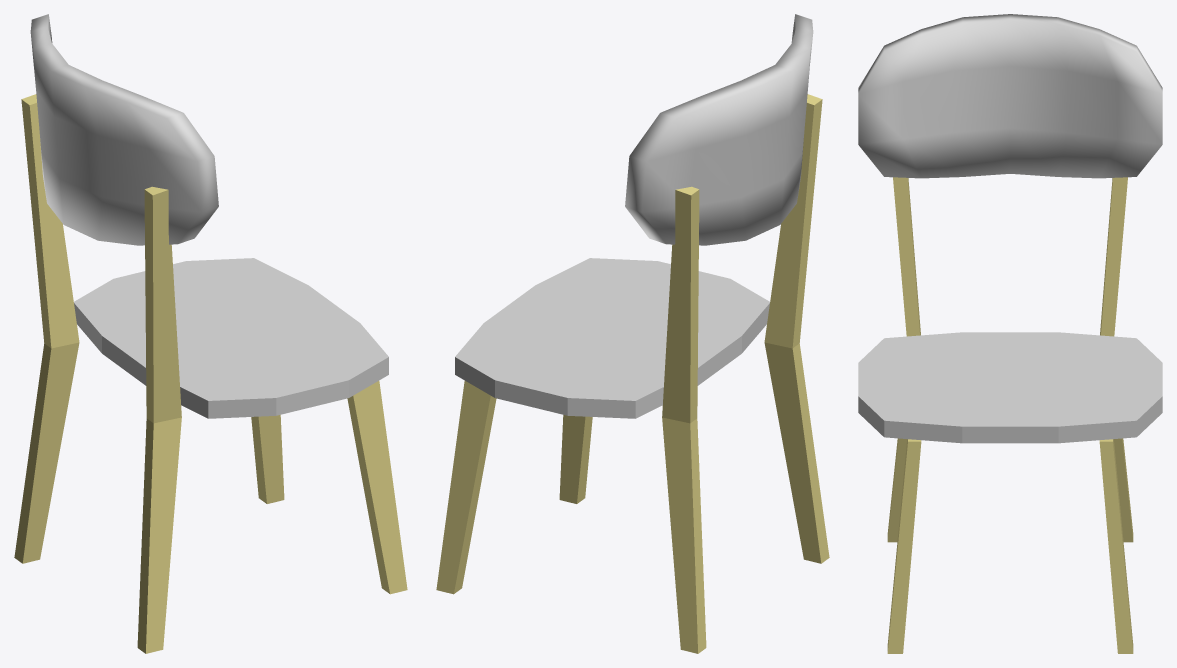
Rendered from BedRoom_Chair.fbx.
3 renders of one model, left to right at view 1: azimuth 30°, elevation 25°; view 2: azimuth 150°, elevation 25°; view 3: azimuth 270°, elevation 25°, orthographic. The views are drawn at different scales.
Visible parts, largest first — view 1: Chair; view 2: Chair; view 3: Chair.
Part boxes in pixels (<box>): Chair: <box>14,14,407,653</box>; Chair: <box>436,14,829,653</box>; Chair: <box>858,14,1162,653</box>.
Bounding box in the file's own units: 25.44 × 45.45 × 24.64.
